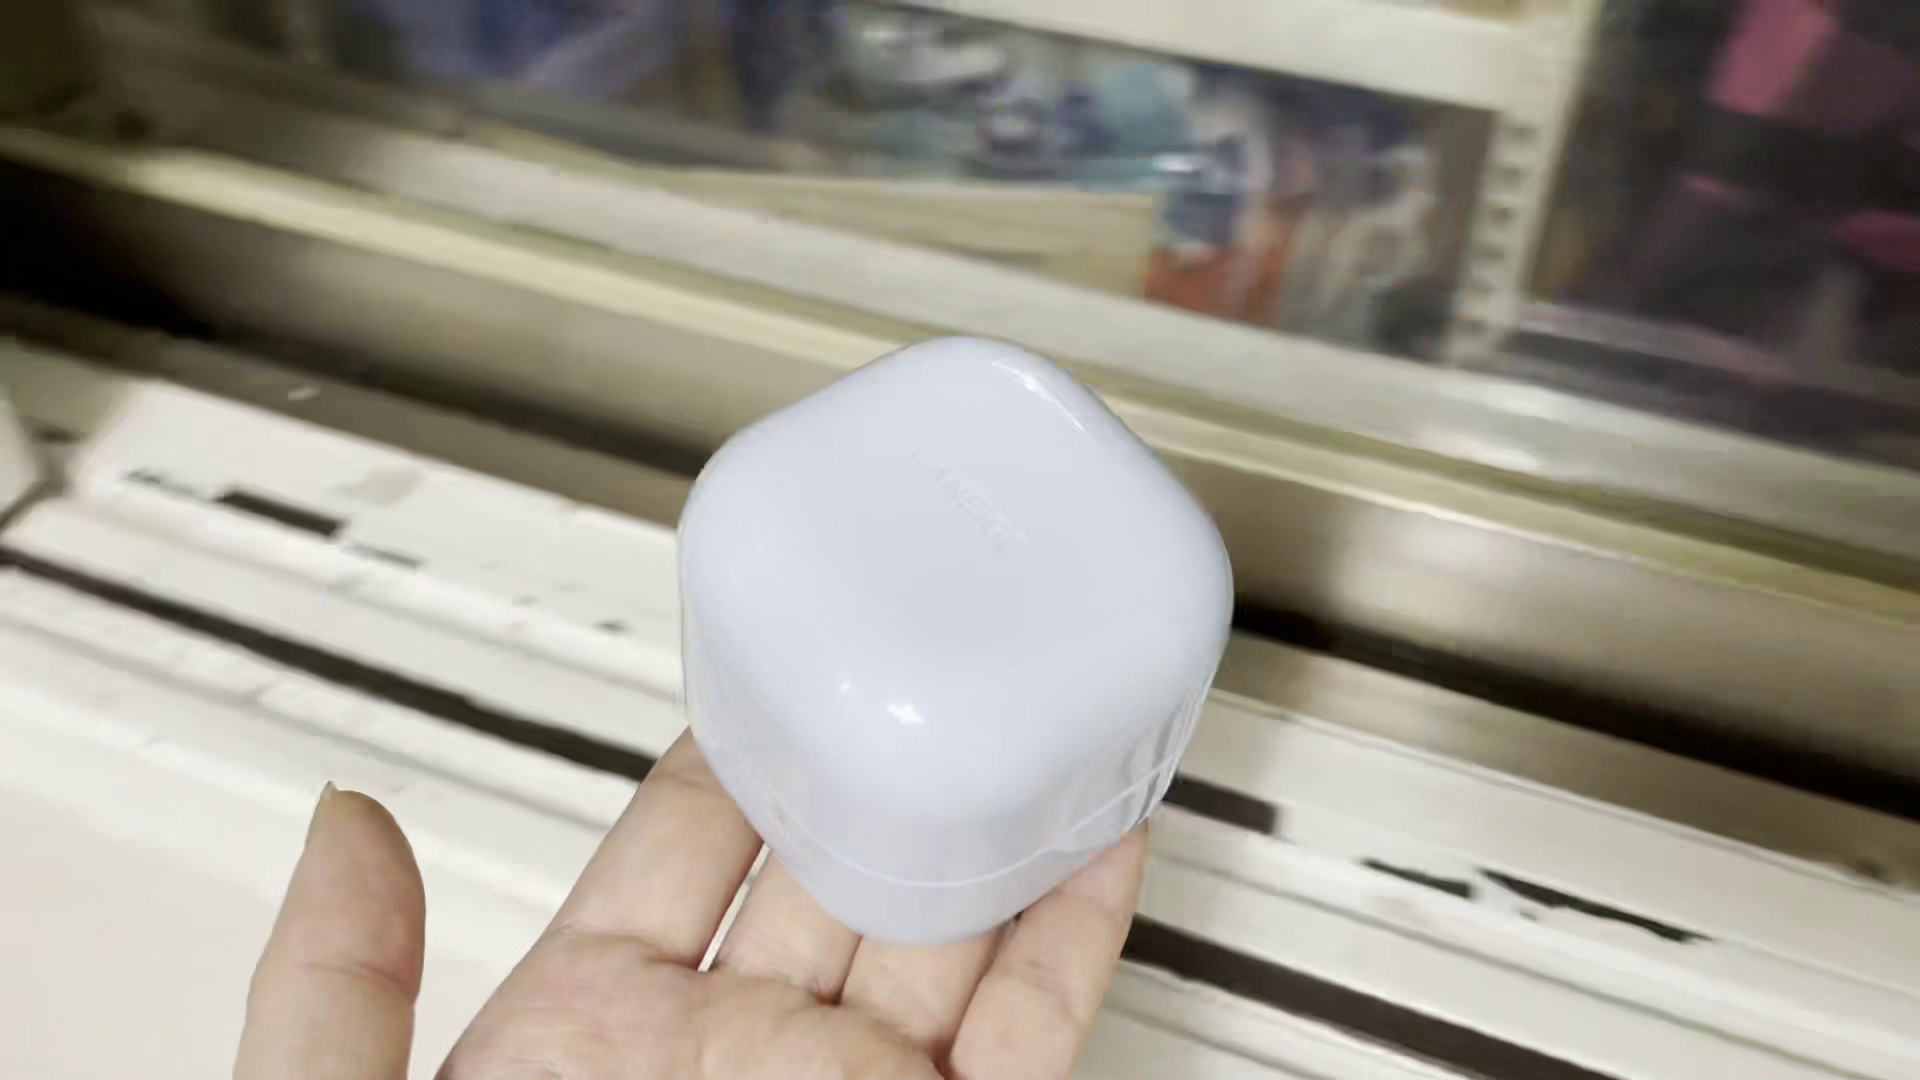cream: (675, 335, 1228, 938)
